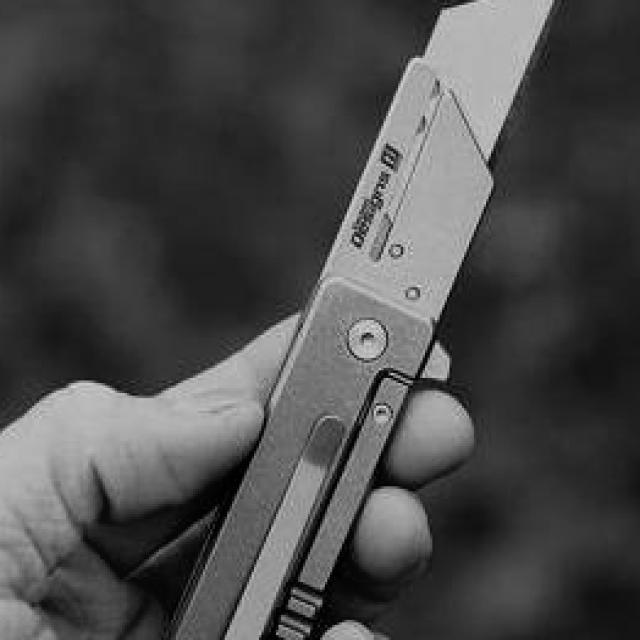estilete: (167, 0, 555, 640)
